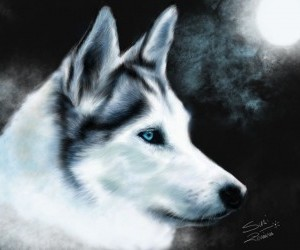Lobo: (9, 7, 254, 242)
